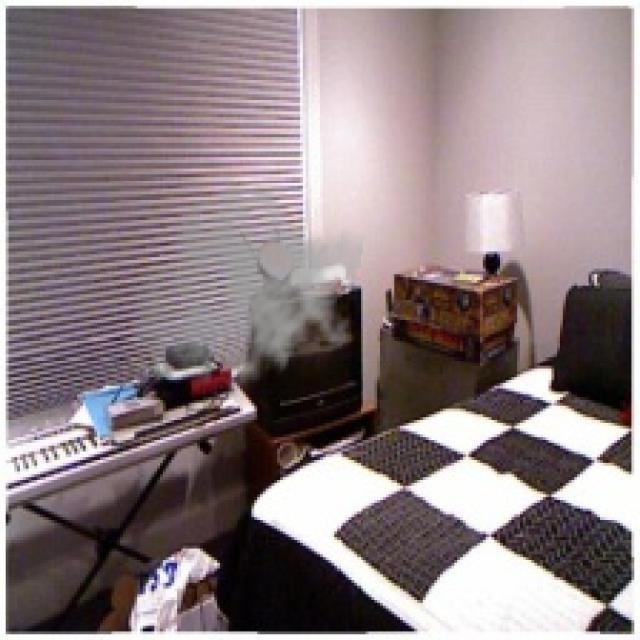Smoke: (128, 172, 366, 408)
